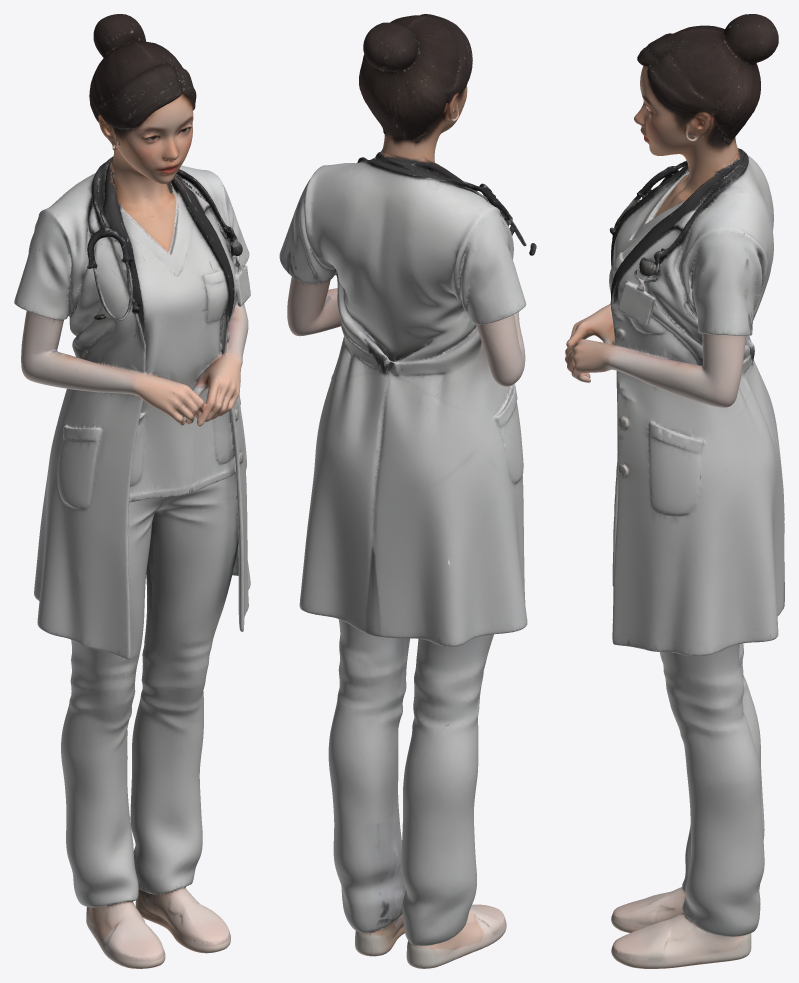
File: doctor.glb
3 views of the same model, side by side, from view 1: azimuth 30°, elevation 25°; view 2: azimuth 150°, elevation 25°; view 3: azimuth 270°, elevation 25° (orthographic). The views are drawn at different scales.
Size of the model in its own units: 0.5363 by 2 by 0.4314.
Materials: 1 (1 with a texture image).
